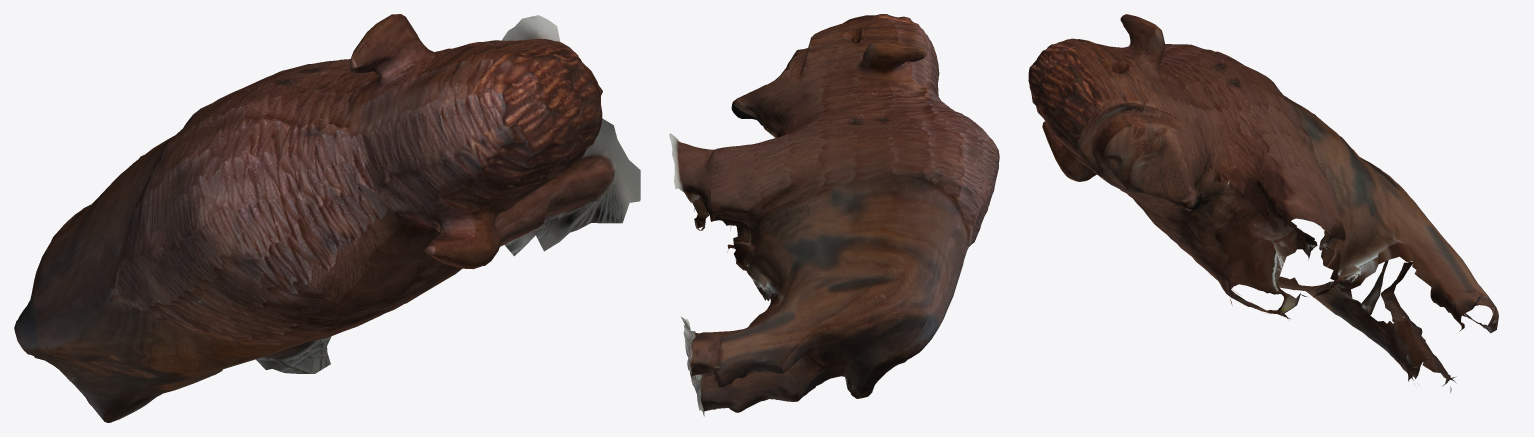
Rendered from 3DModel_LowPoly.gltf.
3 renders of one model, left to right at view 1: azimuth 30°, elevation 25°; view 2: azimuth 150°, elevation 25°; view 3: azimuth 270°, elevation 25°, orthographic. The views are drawn at different scales.
Visible parts, largest first — view 1: defaultobject; view 2: defaultobject; view 3: defaultobject.
Part boxes in pixels (left/top/right/bottom): defaultobject: left=14, top=14, right=640, bottom=422; defaultobject: left=669, top=14, right=999, bottom=416; defaultobject: left=1028, top=14, right=1498, bottom=392.
Size of the model in its own units: 3.02 by 2.96 by 3.63.
1 material, 1 textured.
